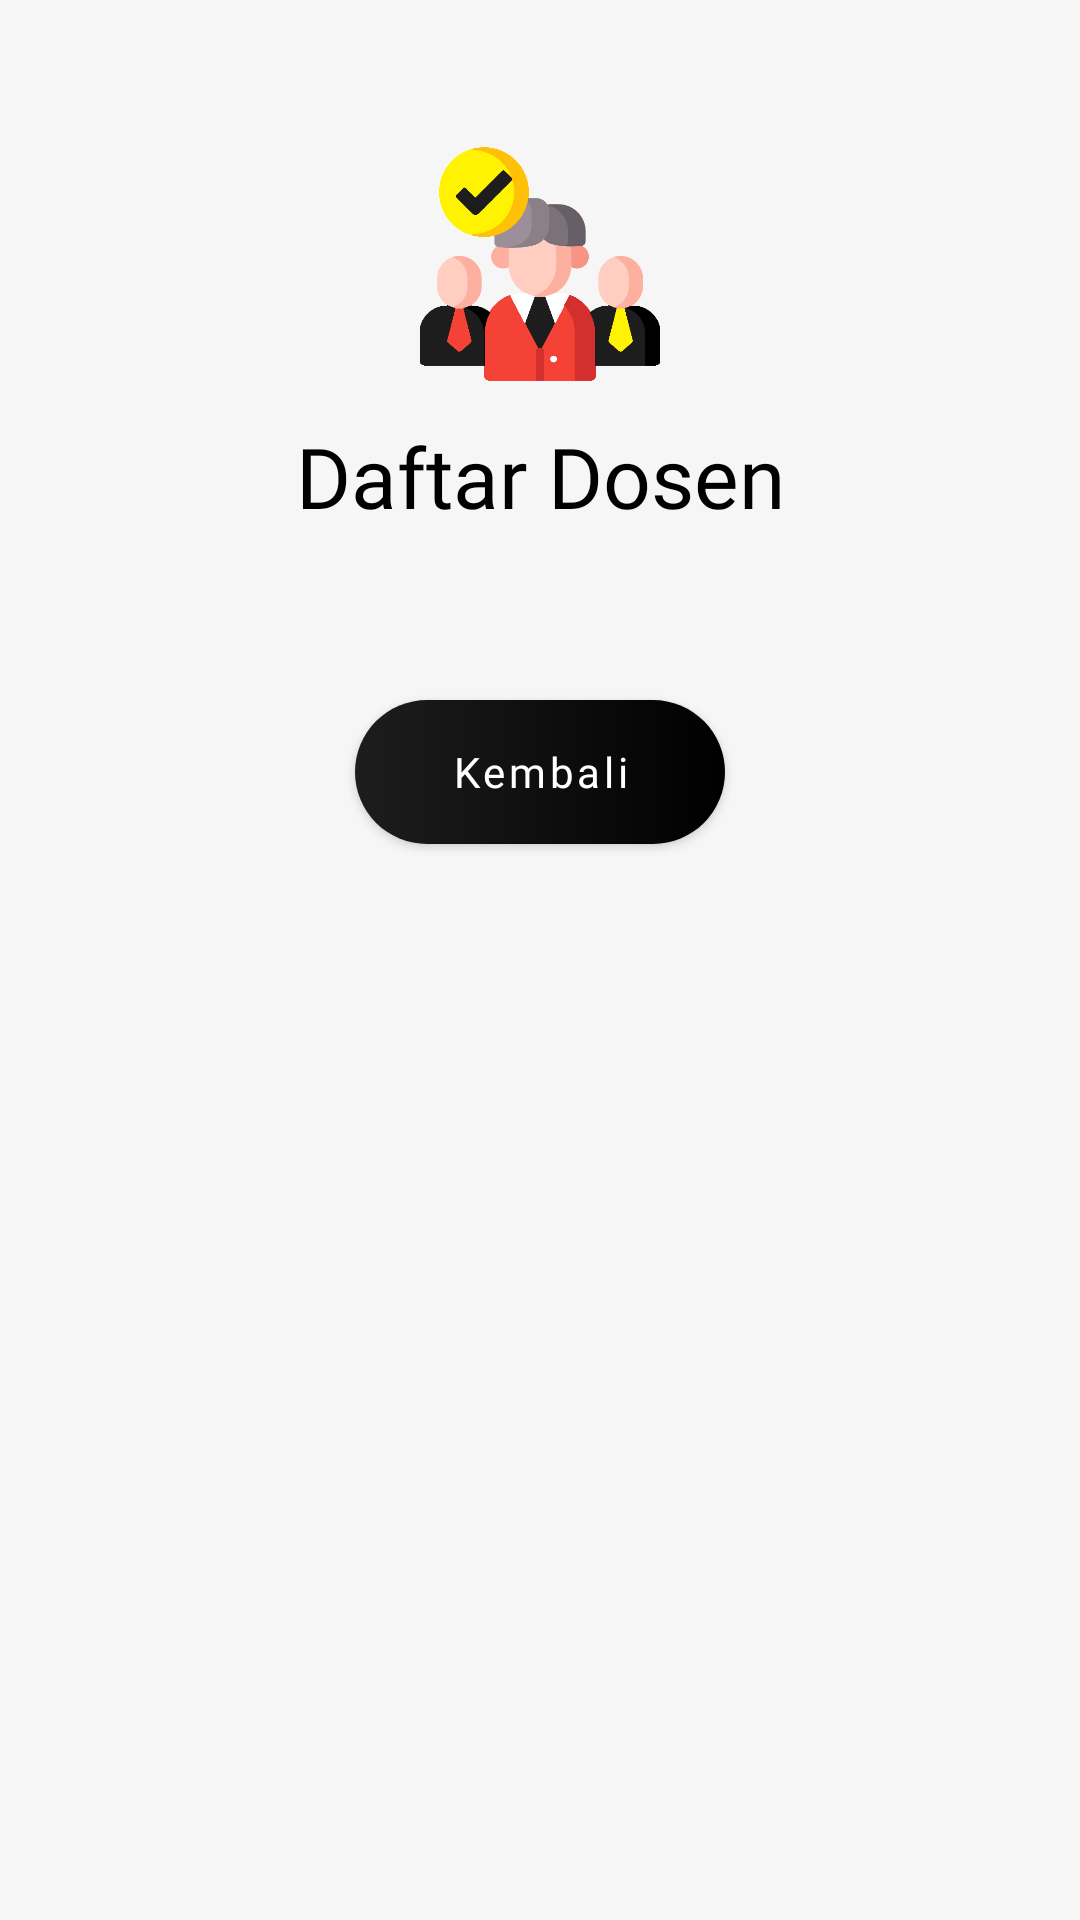

Locate icon controls on the screen. Image size 1080 × 1920, boxes as bbox=(x1, y1, x2, y2).
leader: bbox=(420, 147, 660, 381)
